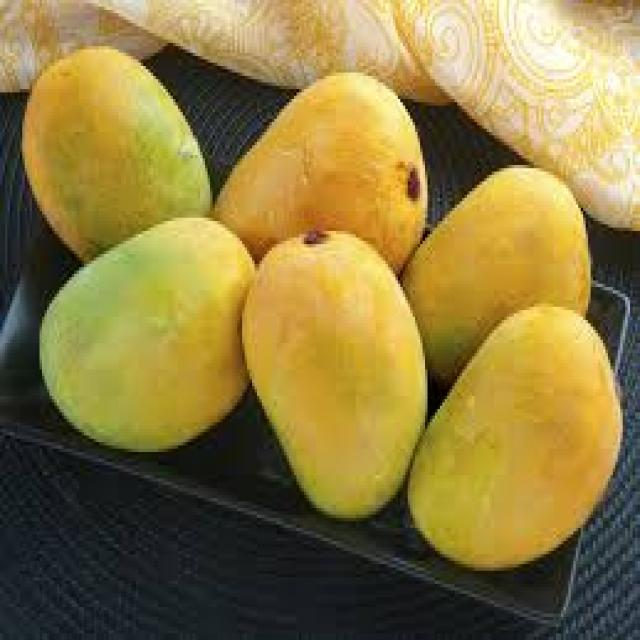mango: (240, 231, 427, 525), (43, 208, 252, 436), (214, 71, 437, 282), (402, 163, 592, 378), (22, 45, 217, 222), (408, 400, 466, 559)
